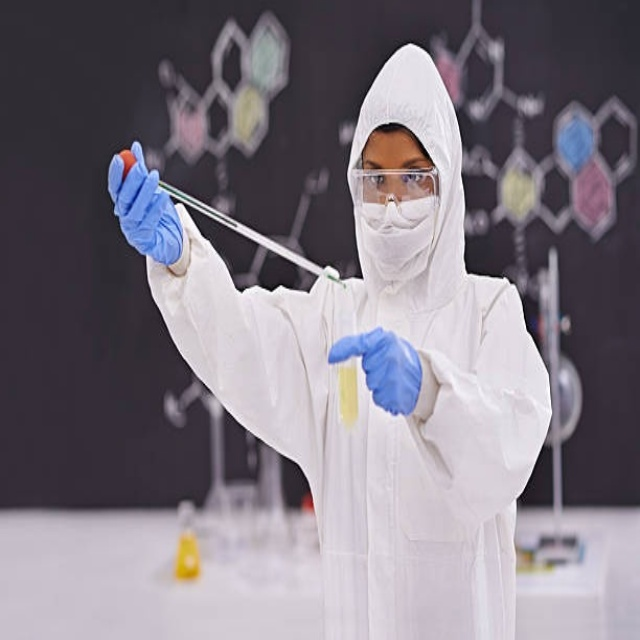Gafas: (352, 166, 442, 210)
Guantes: (108, 138, 185, 268), (328, 326, 423, 418)
Mascara: (356, 184, 441, 282)
